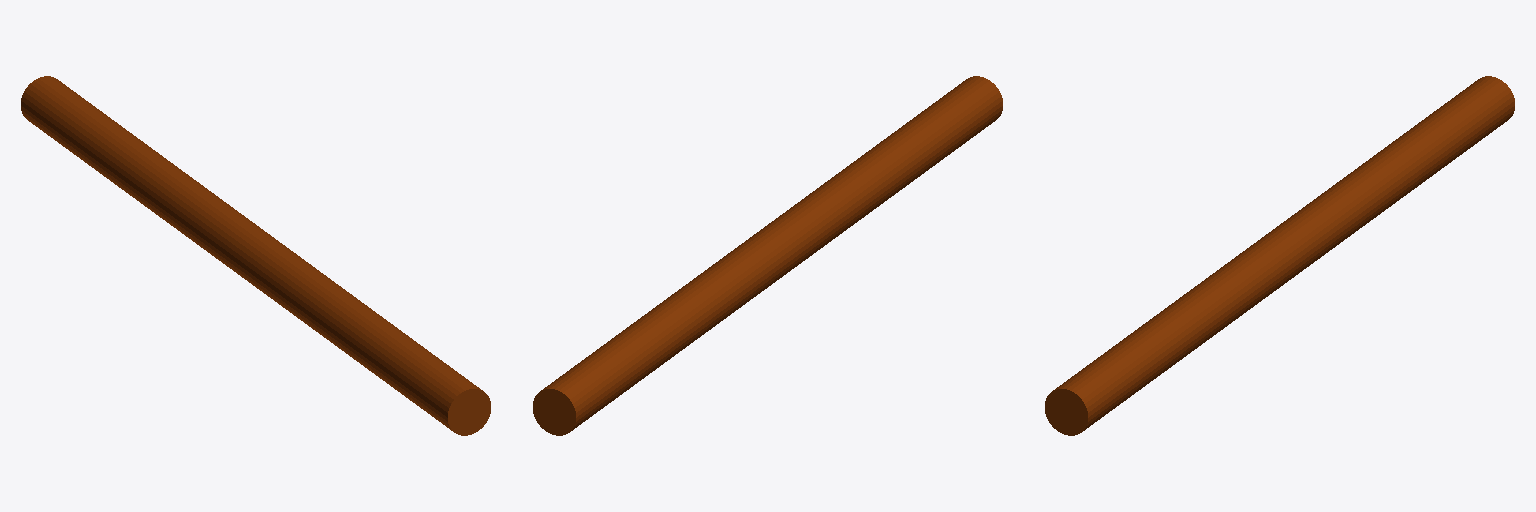
The robot description file, URDF, robot "cylinder":
<?xml version="1.0" ?>
<!-- =================================================================================== -->
<!-- |    This document was autogenerated by xacro from cylinder.xacro                 | -->
<!-- |    EDITING THIS FILE BY HAND IS NOT RECOMMENDED                                 | -->
<!-- =================================================================================== -->
<robot name="cylinder">
  <link name="world"/>
  <link name="base">
    <visual>
      <origin rpy="1.57079633 0 0" xyz="0 0 0"/>
      <geometry>
        <cylinder length="7.07106781185" radius="0.21"/>
      </geometry>
      <material name="cylinder_material">
        <color rgba="0.545 0.271 0.075 1.0"/>
        <texture filename="../textures/tree_bark.jpg"/>
      </material>
    </visual>
    <collision>
      <origin rpy="1.57079633 0 0" xyz="0 0 0"/>
      <geometry>
        <cylinder length="7.07106781185" radius="0.21"/>
      </geometry>
    </collision>
    <inertial>
      <origin rpy="0 0 0" xyz="0 0 0"/>
      <mass value="1"/>
      <inertia ixx="4.177691666648428" ixy="0.0" ixz="0.0" iyy="4.177691666648428" iyz="0.0" izz="24.999999999890573"/>
    </inertial>
  </link>
  <joint name="base_joint" type="fixed">
    <parent link="world"/>
    <child link="base"/>
    <origin rpy="0 0 0" xyz="0.0 0.0 0.0"/>
  </joint>
</robot>

--- What the picture shows (computed from the rendered views, not written in the file) ---
Views: 3 orthographic renders of the robot side by side, from view 1: azimuth 30°, elevation 25°; view 2: azimuth 150°, elevation 25°; view 3: azimuth 330°, elevation 25°.
Robot: cylinder — 2 links, 1 joints (1 fixed); root link world; default pose: every joint at zero.
Visible links, largest first — view 1: base; view 2: base; view 3: base.
Boxes of the visible links, bbox=[...] form: base: bbox=[21, 76, 490, 435]; base: bbox=[533, 76, 1002, 435]; base: bbox=[1045, 76, 1514, 435].
Size in the robot's own frame: 0.42 by 7.07 by 0.42 metres.
Geometry: primitives only (box / cylinder / sphere), no mesh files.
